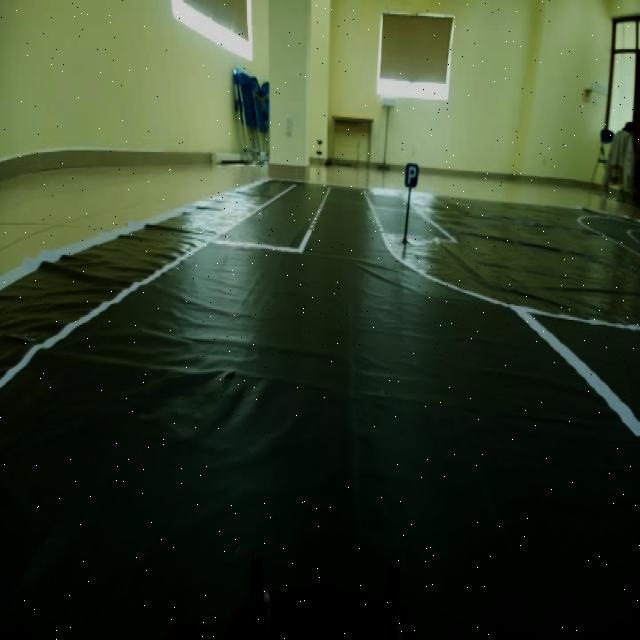parking: (399, 149, 421, 190)
